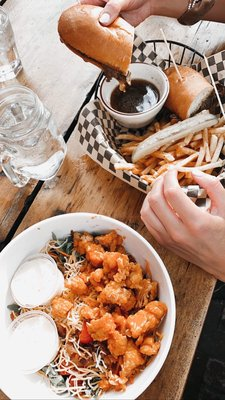pizza: (1, 80, 67, 187)
sushi: (1, 212, 177, 400), (97, 63, 170, 130)
